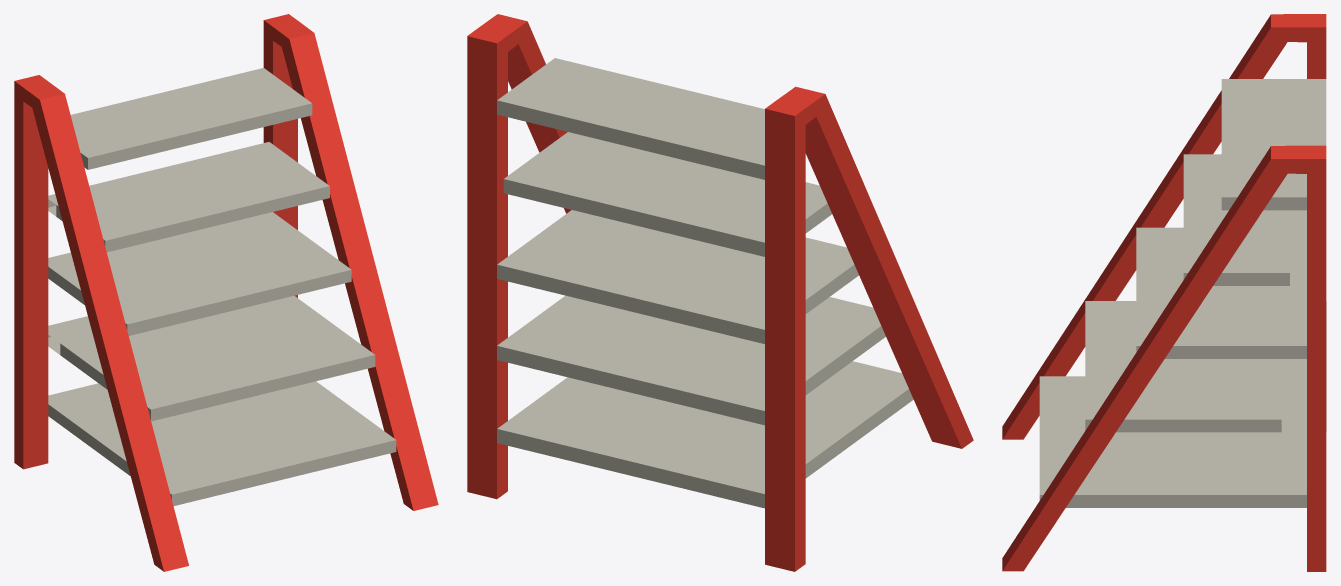
File: stairsfinalvr3.fbx
The picture shows the model from 3 angles, left to right: view 1: azimuth 30°, elevation 25°; view 2: azimuth 150°, elevation 25°; view 3: azimuth 270°, elevation 25°; orthographic projection. The views are drawn at different scales.
Visible parts, largest first — view 1: Cube; view 2: Cube; view 3: Cube.
Boxes of the visible parts, x1,y1,x2,y2 form: Cube: (14, 14, 438, 571); Cube: (467, 14, 973, 571); Cube: (1002, 14, 1326, 571).
Size of the model in its own units: 817 by 1086 by 773.
